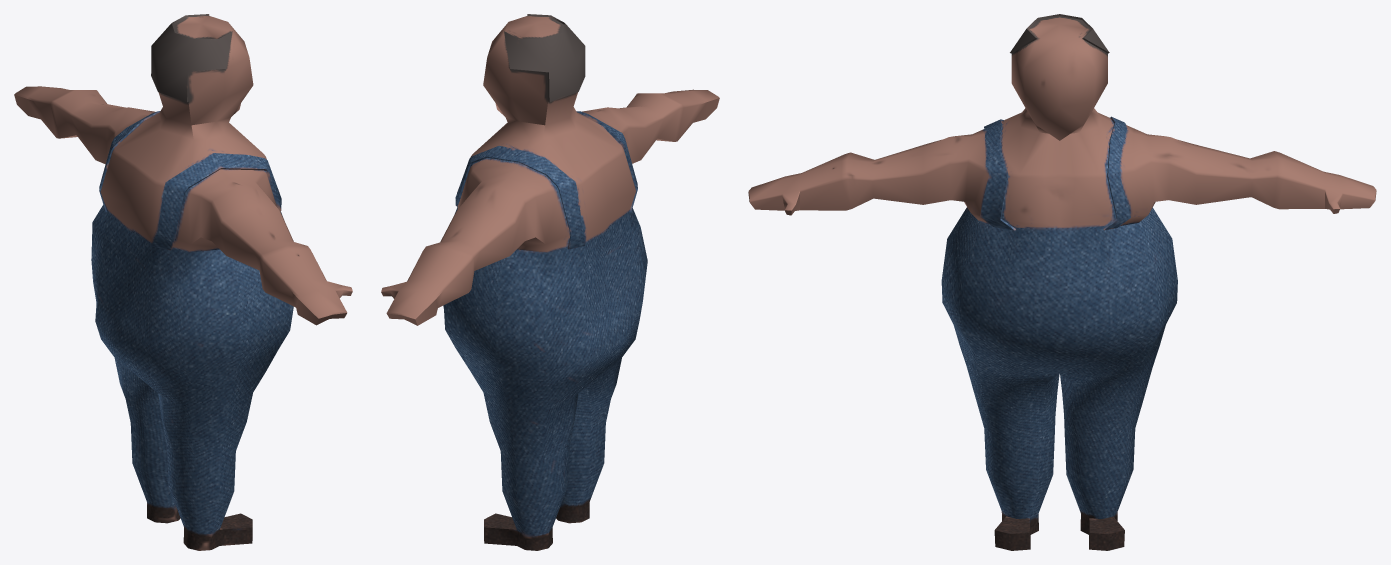
The model's file is LaraCroft.fbx.
3 views of the same model, side by side, from view 1: azimuth 30°, elevation 25°; view 2: azimuth 150°, elevation 25°; view 3: azimuth 270°, elevation 25° (orthographic). The views are drawn at different scales.
Visible parts, largest first — view 1: LaraCroft; view 2: LaraCroft; view 3: LaraCroft.
Boxes of the visible parts, x1=… form: LaraCroft: x1=14, y1=14, x2=352, y2=550; LaraCroft: x1=381, y1=14, x2=719, y2=550; LaraCroft: x1=748, y1=14, x2=1376, y2=550.
Bounding box in the file's own units: 117 × 338 × 375.
